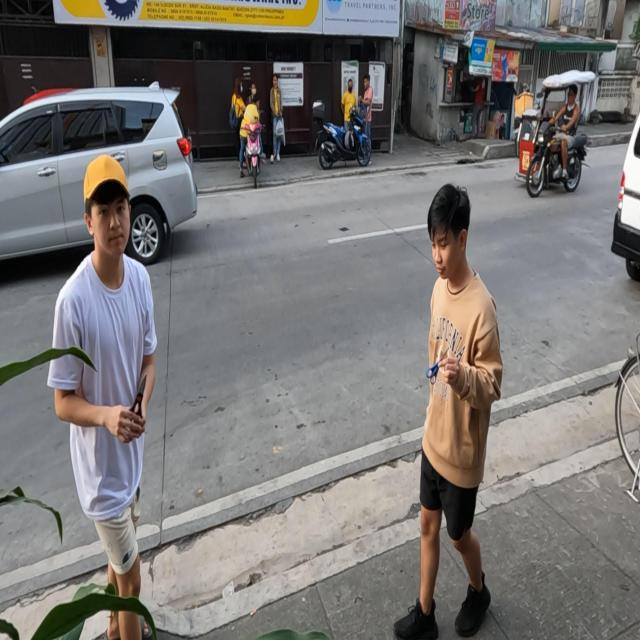scissor: (125, 373, 146, 435), (426, 348, 450, 385)
